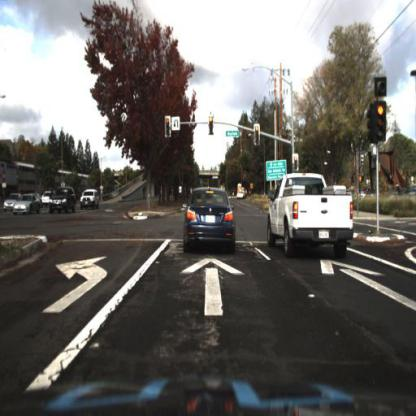car: (266, 174, 355, 260), (185, 188, 238, 253), (50, 186, 75, 216), (15, 193, 40, 218), (83, 187, 101, 212), (5, 194, 18, 210)
trafficLight-Red: (375, 103, 387, 147), (252, 124, 260, 150), (292, 154, 300, 175), (209, 117, 214, 138)
trafficLight-RedLeft: (165, 115, 173, 136)
